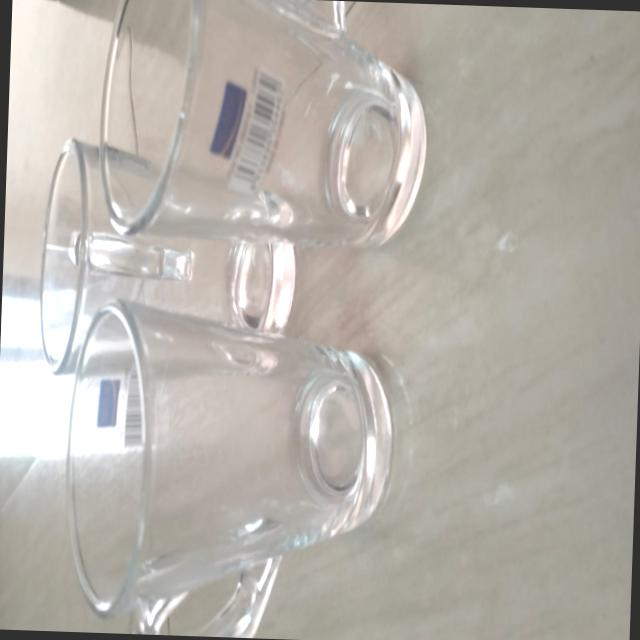glass-VX4N: (53, 301, 396, 640), (93, 0, 431, 251), (35, 136, 302, 382)
